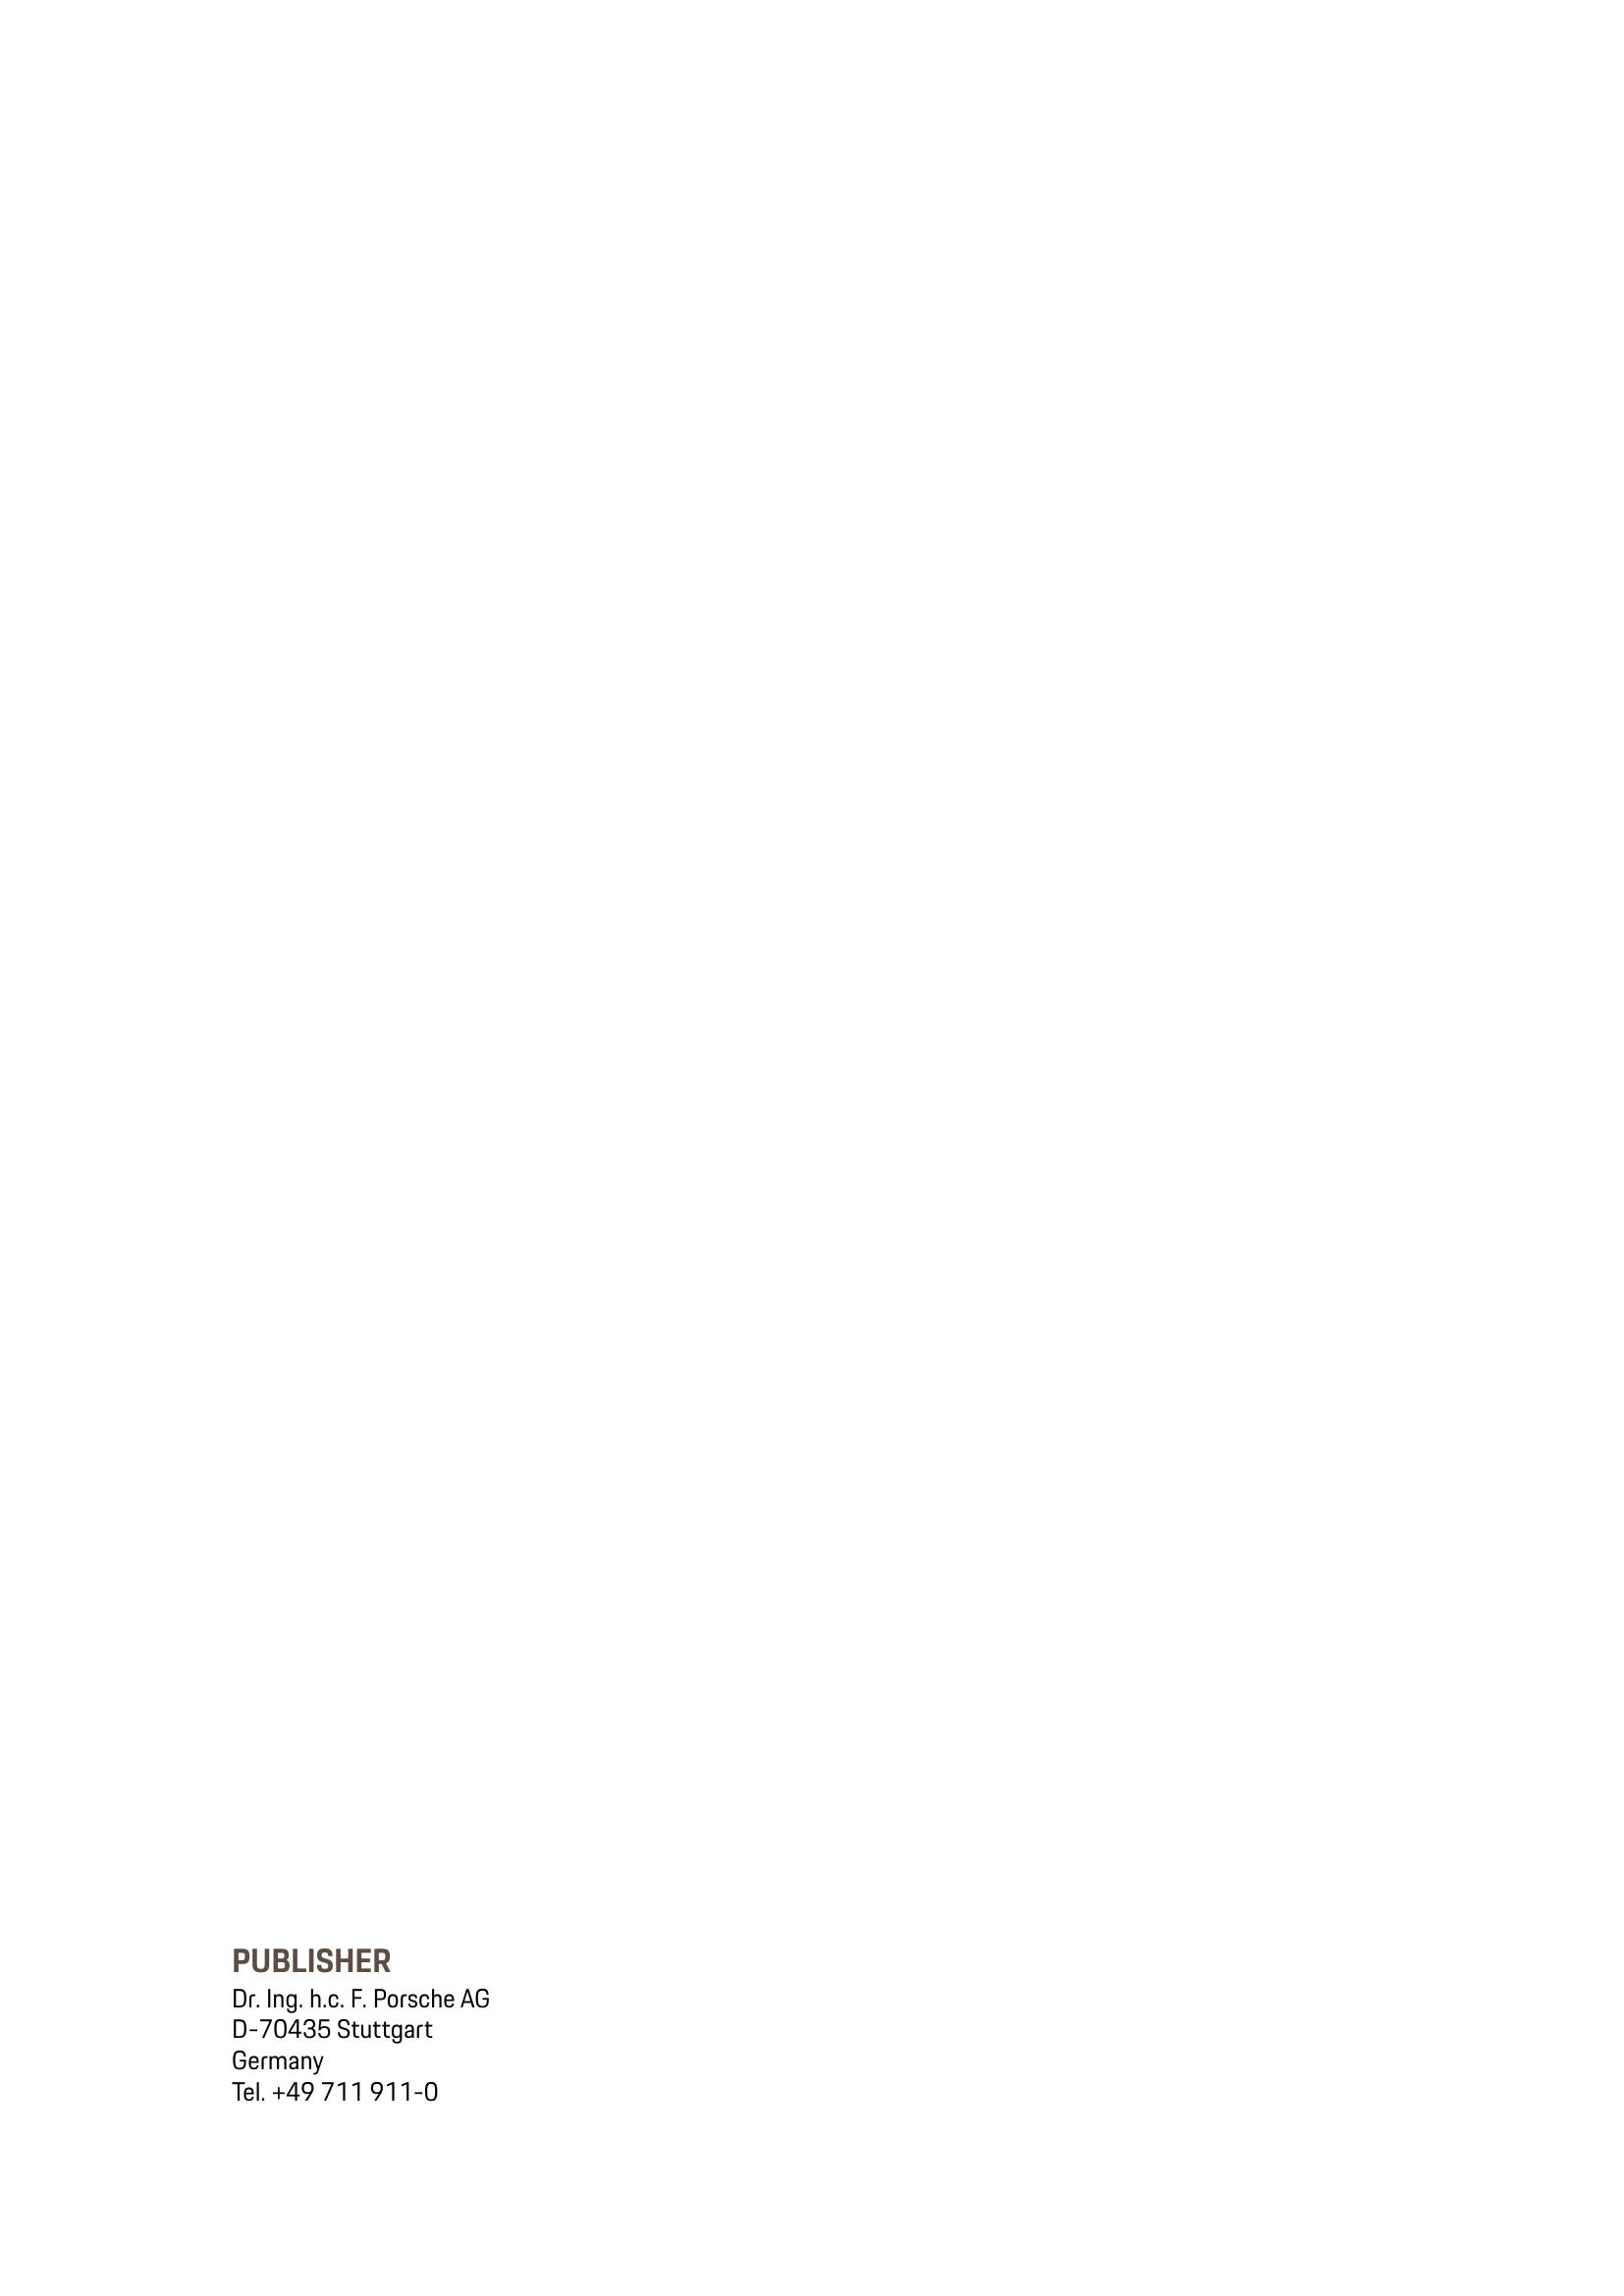Footer: (0, 1925, 1624, 2296)
